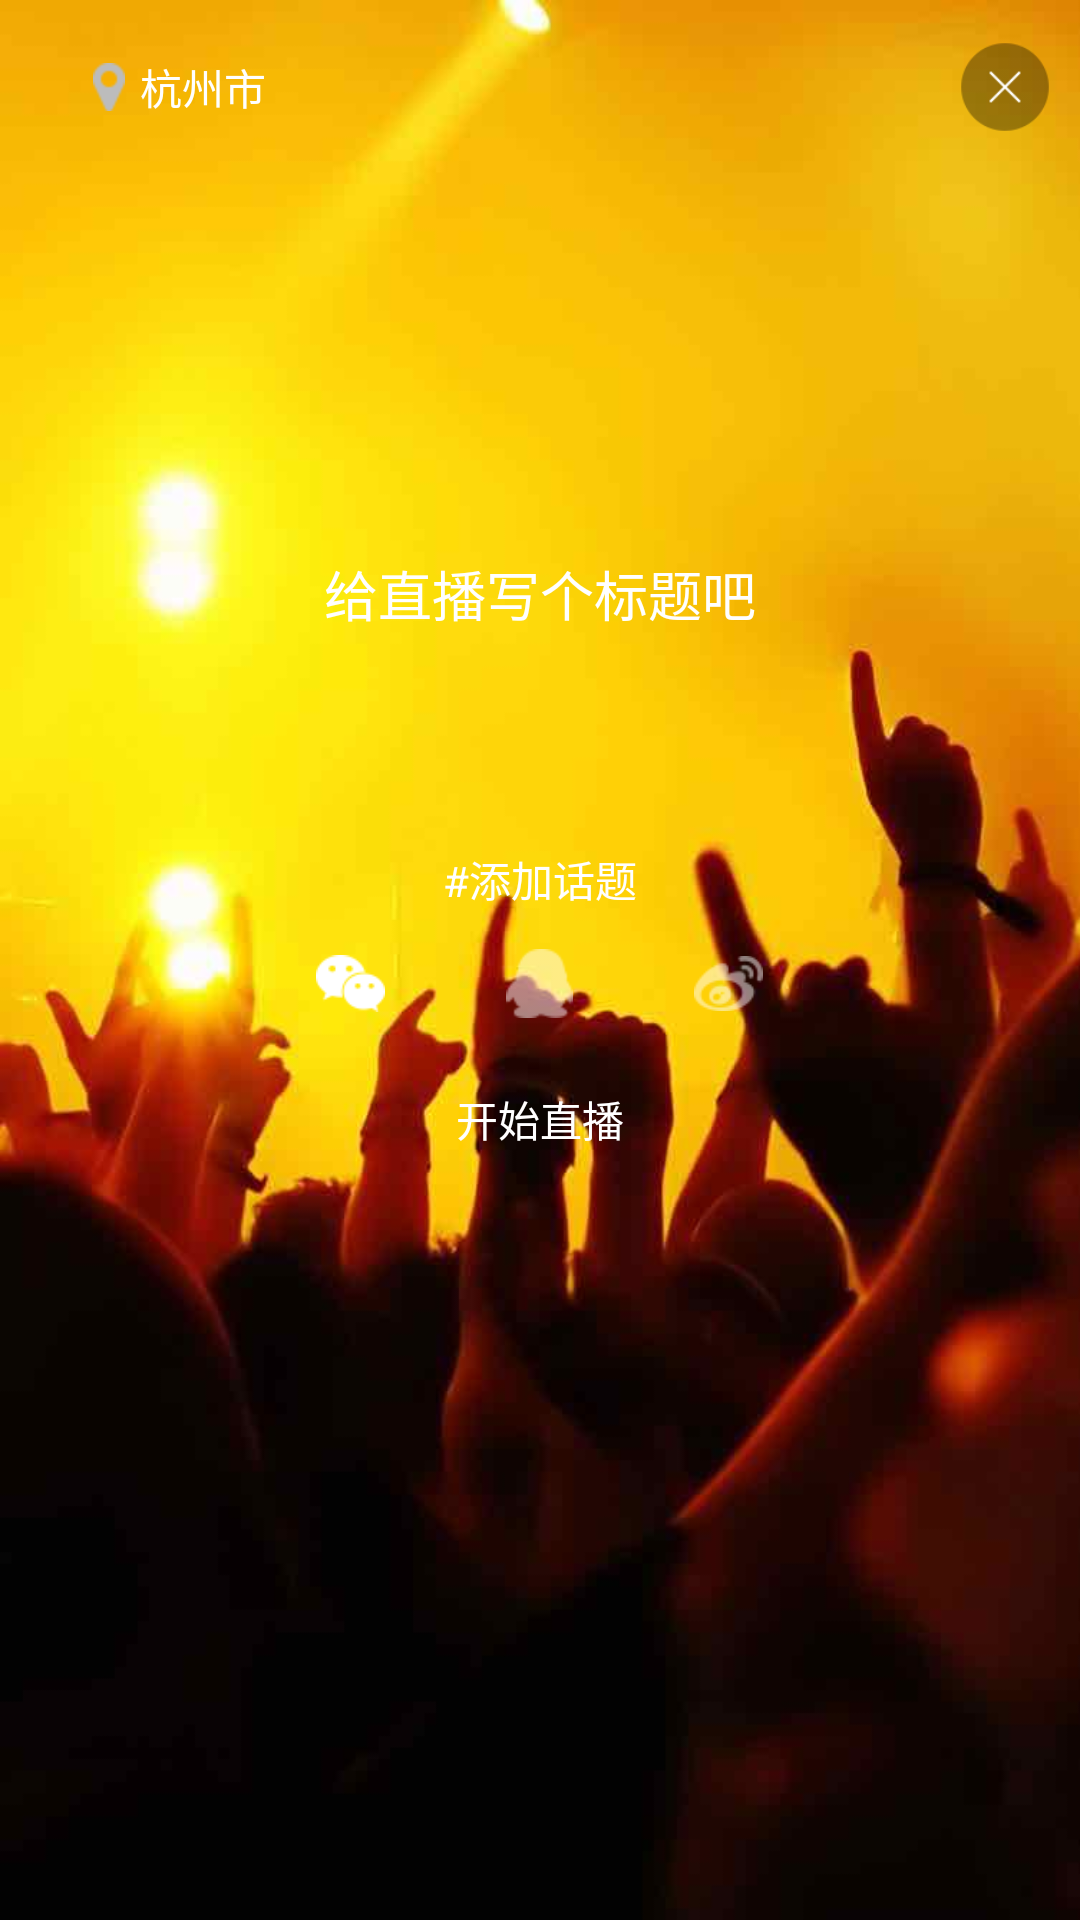

Locate icon controls on the screen. Image size 1080 × 1920, boxes as Rect(x1, y1, x2, y2).
live close: Rect(960, 0, 1050, 131)
live location: Rect(93, 63, 125, 111)
